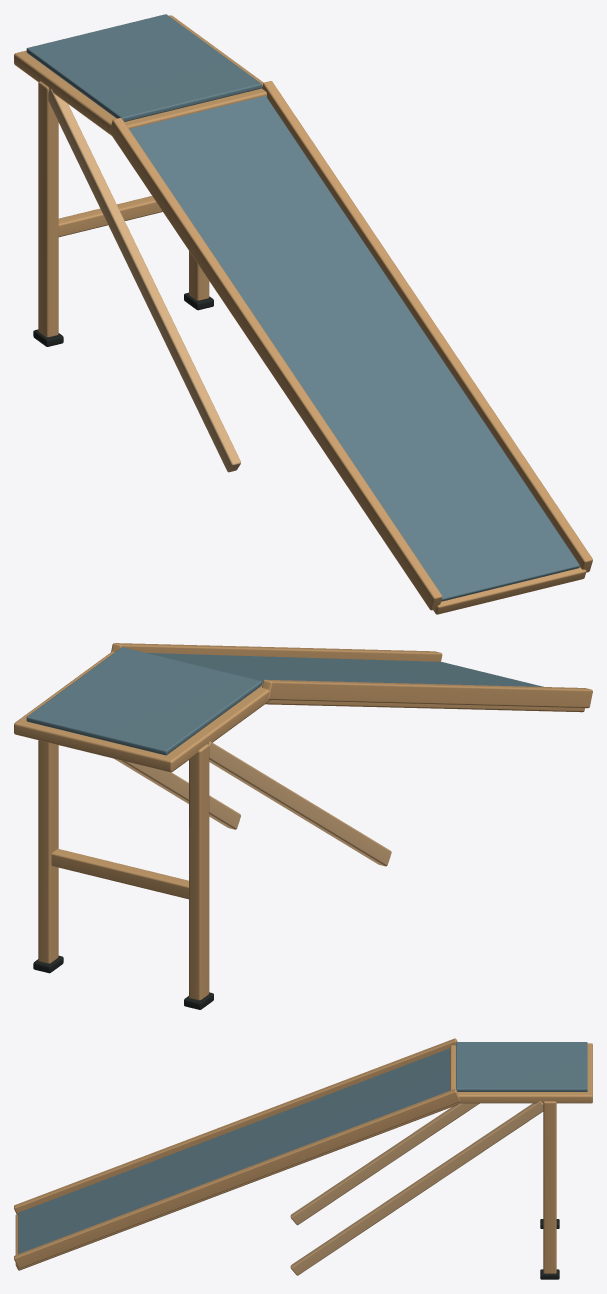
Rendered from indoor-pet-ramp.glb.
The picture shows the model from 3 angles, top to bottom: view 1: azimuth 30°, elevation 25°; view 2: azimuth 150°, elevation 25°; view 3: azimuth 270°, elevation 25°; orthographic projection. The views are drawn at different scales.
Parts seen in each view (by area): view 1: indoor-pet-ramp authored assembly; view 2: indoor-pet-ramp authored assembly; view 3: indoor-pet-ramp authored assembly.
Part boxes in pixels (x1,y1,x2,y2): indoor-pet-ramp authored assembly: [14, 14, 592, 614]; indoor-pet-ramp authored assembly: [14, 643, 592, 1009]; indoor-pet-ramp authored assembly: [14, 1038, 592, 1279].
Size of the model in its own units: 0.41 by 0.635 by 1.78.
